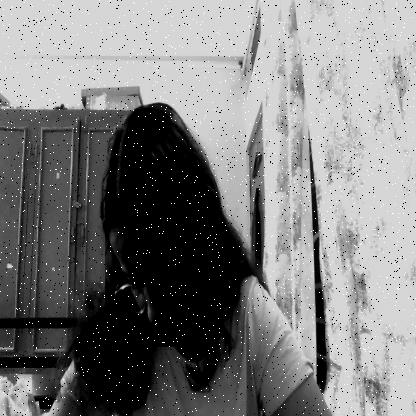Distracted: (105, 198, 189, 347)
